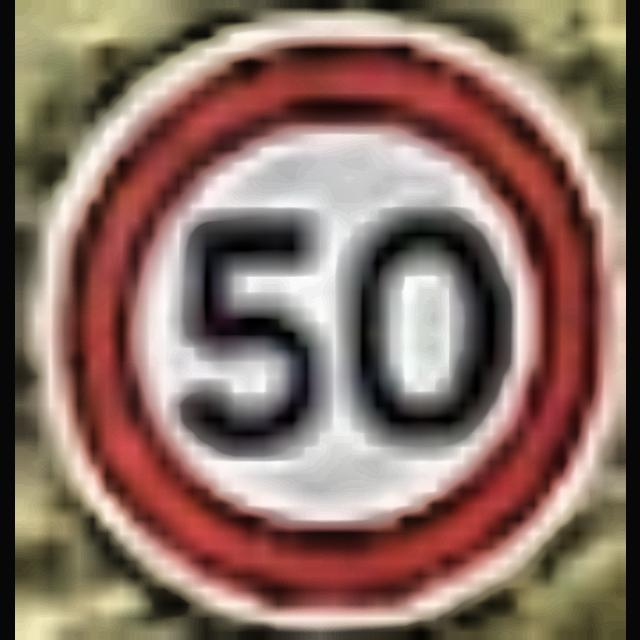speed_50: (14, 1, 612, 626)
